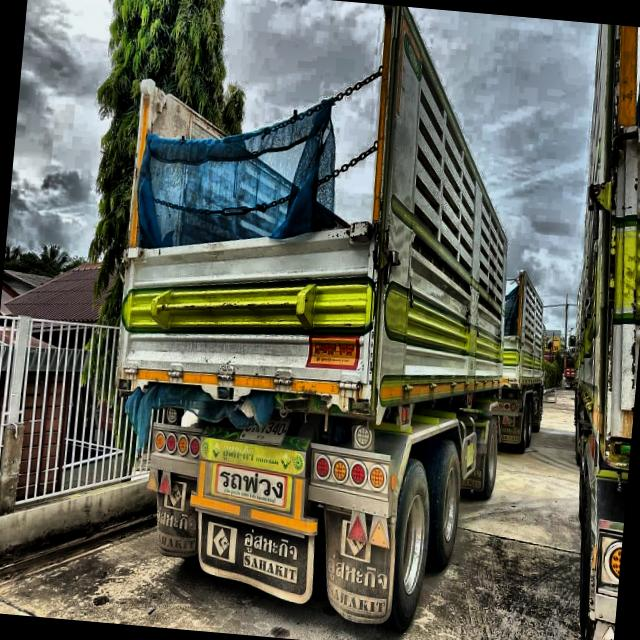trailer: (79, 0, 585, 640)
